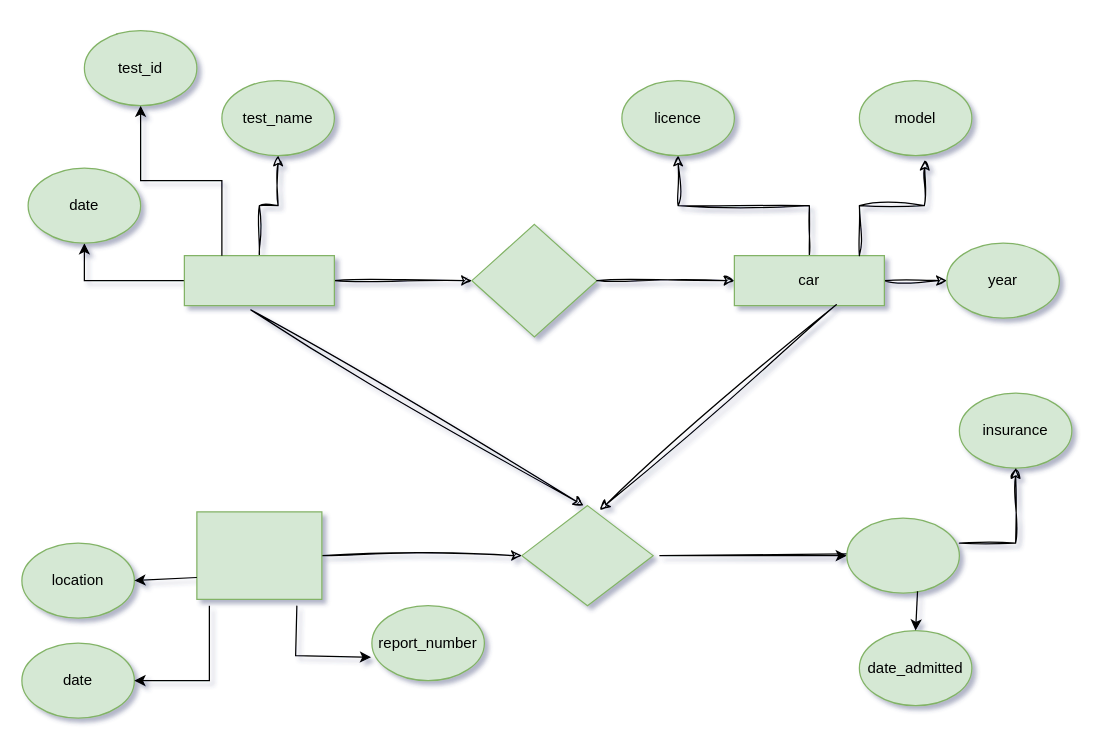
The diagram is 1101 pixels wide and 748 high, and some of its shapes have lost their labels. Each missing label, with the box of its shape:
accident: (196, 511, 322, 599)
damage_amount: (846, 517, 959, 593)
owns: (471, 223, 597, 337)
participated: (521, 504, 653, 606)
test: (183, 254, 334, 306)
